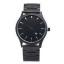watch: (15, 9, 48, 48)
